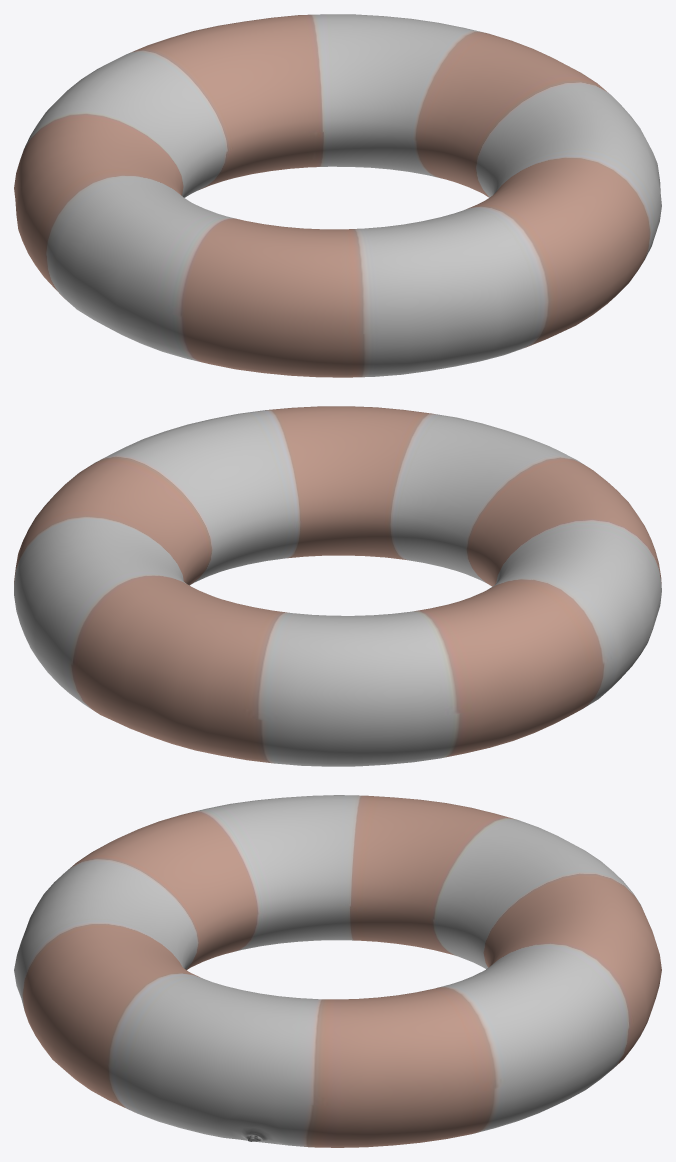
The model's file is decor_floats_float1.glb.
The picture shows the model from 3 angles, top to bottom: view 1: azimuth 30°, elevation 25°; view 2: azimuth 150°, elevation 25°; view 3: azimuth 270°, elevation 25°; orthographic projection.
Visible parts, largest first — view 1: Beach Float Tube; view 2: Beach Float Tube; view 3: Beach Float Tube.
Boxes of the visible parts, x1=… form: Beach Float Tube: x1=14, y1=14, x2=661, y2=377; Beach Float Tube: x1=14, y1=406, x2=661, y2=766; Beach Float Tube: x1=14, y1=795, x2=661, y2=1147.
Bounding box in the file's own units: 0.9214 × 0.2124 × 0.9262.
Materials: 1 (1 with a texture image).
